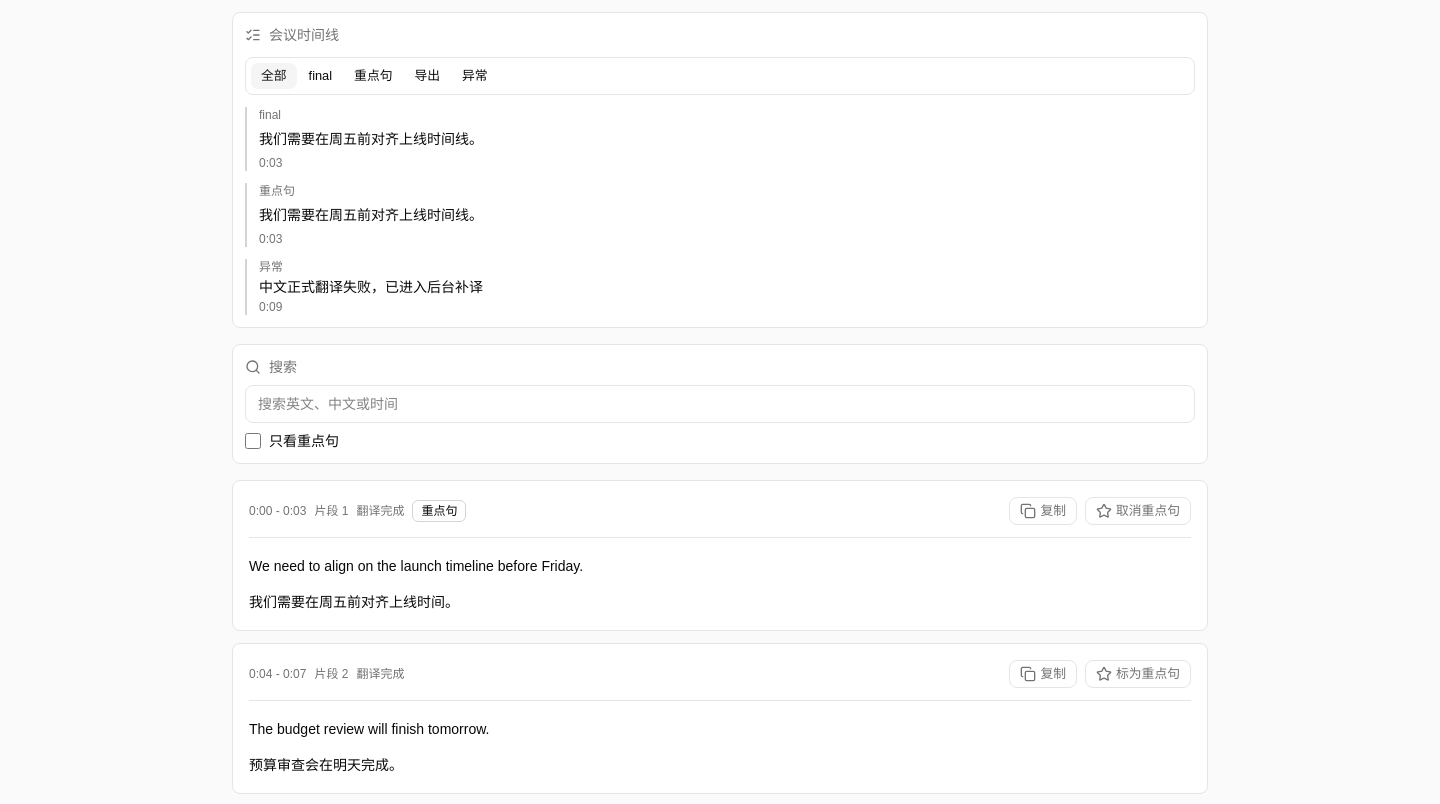
ArchivePage › shows key sentence update failure without changing archive content
(page scrolled)
Click the button with aria-label "标记片段 2 为重点句": (1138, 674) [1085,660,1191,688]
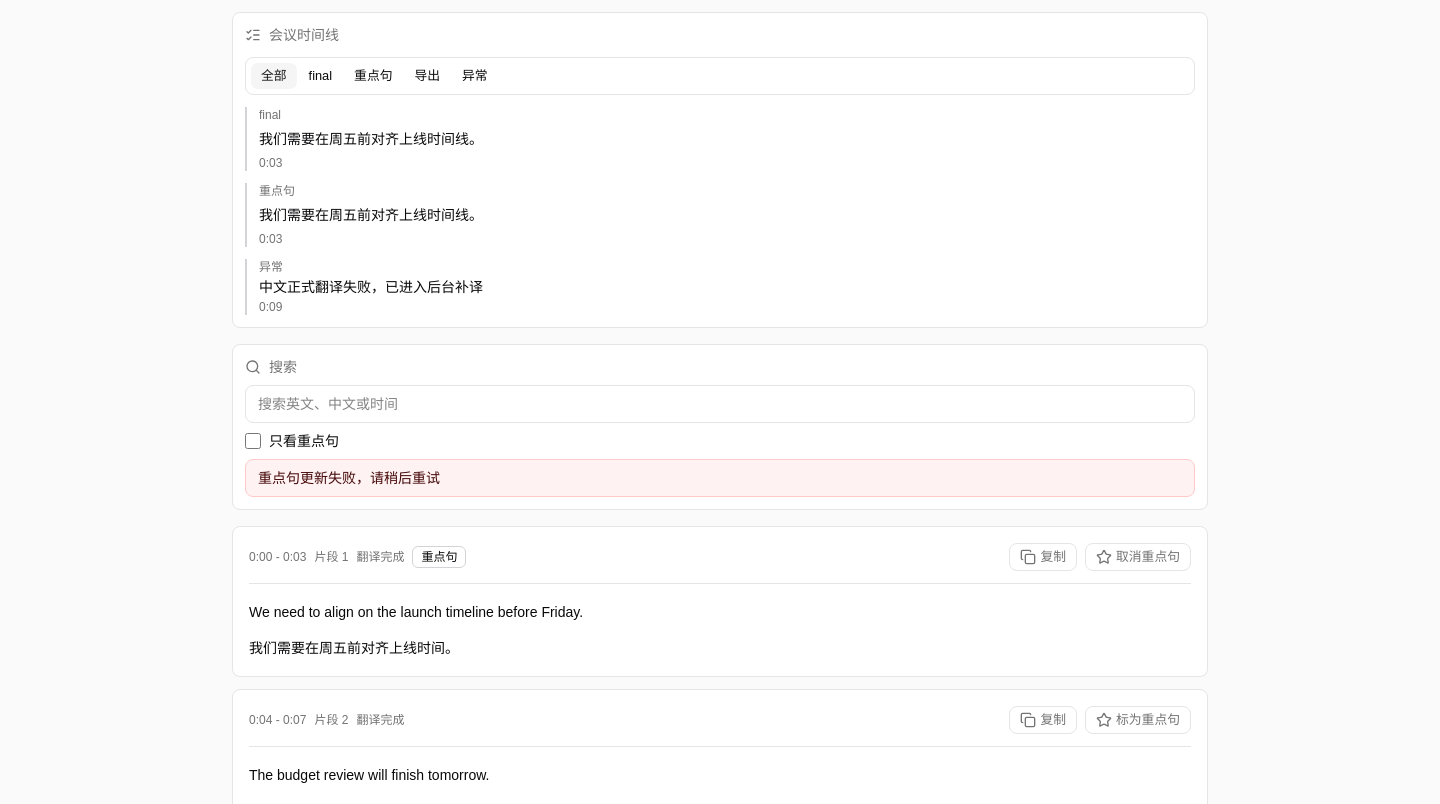
Expected: the text "The budget review will finish tomorrow." is shown, [249,767,489,783]
Result: the message reads "重点句更新失败，请稍后重试" at [258,470,440,486]
